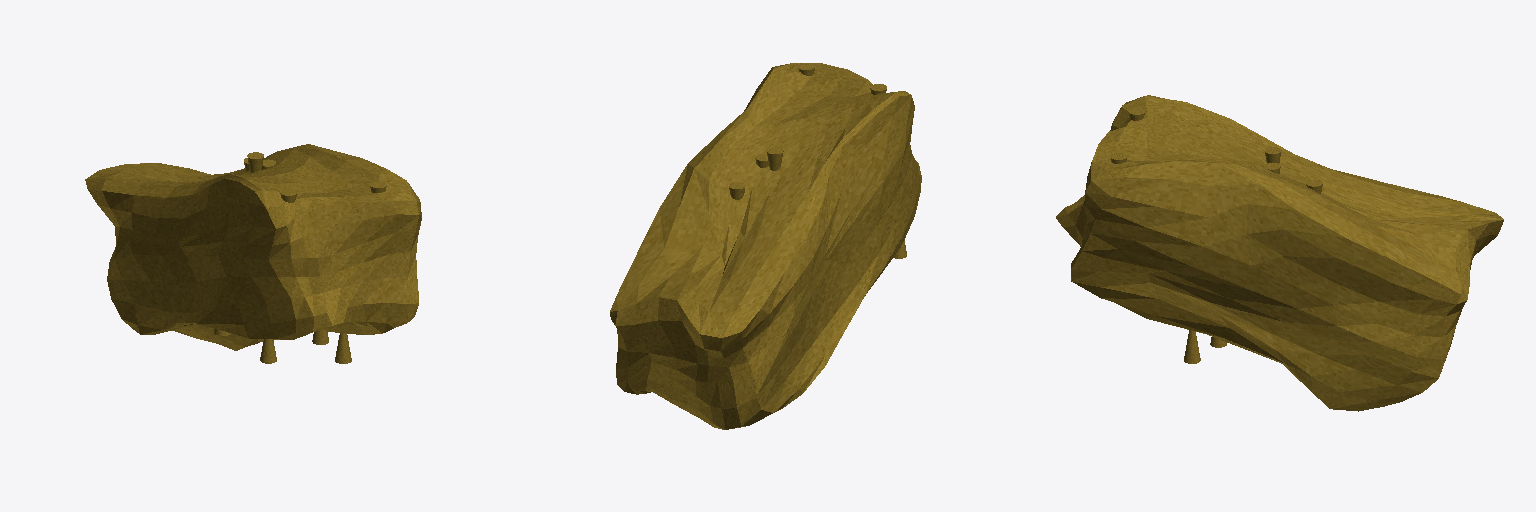
3 views of the same model, side by side, from view 1: azimuth 30°, elevation 25°; view 2: azimuth 150°, elevation 25°; view 3: azimuth 270°, elevation 25° (orthographic).
Parts seen in each view (by area): view 1: Cube, Cone; view 2: Cube, Cone; view 3: Cube, Cone.
Part boxes in pixels (x1,y1,x2,y2): Cube: (85, 144, 421, 350); Cone: (214, 152, 386, 363); Cube: (610, 63, 921, 429); Cone: (729, 63, 906, 258); Cube: (1056, 95, 1503, 411); Cone: (1110, 108, 1322, 363).
Size of the model in its own units: 13.07 by 20.42 by 31.93.
Materials: 1 (1 with a texture image).